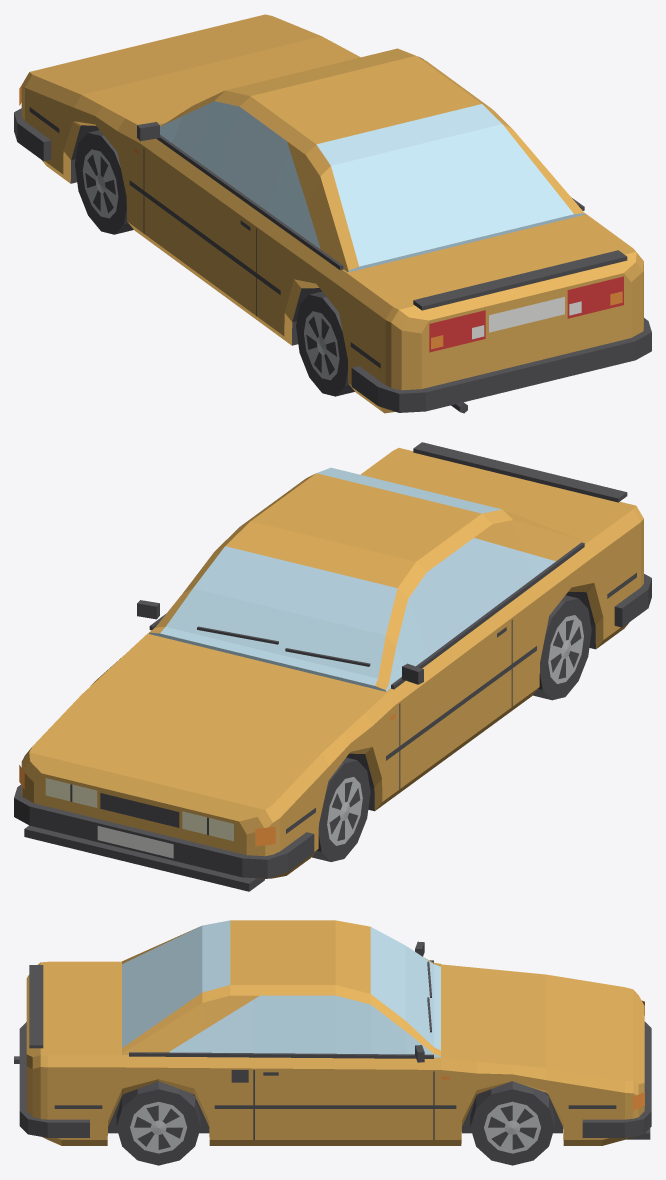
Rendered from sports.glb.
The picture shows the model from 3 angles, top to bottom: view 1: azimuth 30°, elevation 25°; view 2: azimuth 150°, elevation 25°; view 3: azimuth 270°, elevation 25°; orthographic projection. The views are drawn at different scales.
Visible parts, largest first — view 1: body, door_FL, wheel_RL, wheel_FL; view 2: body, door_FL, wheel_RL, wheel_FL; view 3: body, door_FR, wheel_FR, wheel_RR.
Boxes of the visible parts, x1,y1,x2,y2 form: body: (14, 14, 651, 413); door_FL: (143, 101, 290, 324); wheel_RL: (296, 291, 354, 396); wheel_FL: (75, 130, 133, 234); body: (14, 442, 651, 891); door_FL: (389, 535, 512, 797); wheel_RL: (533, 595, 591, 700); wheel_FL: (312, 757, 370, 861); body: (14, 920, 651, 1145); door_FR: (254, 995, 433, 1145); wheel_FR: (470, 1081, 554, 1165); wheel_RR: (116, 1081, 200, 1165).
Size of the model in its own units: 1.87 by 1.3 by 4.54.
